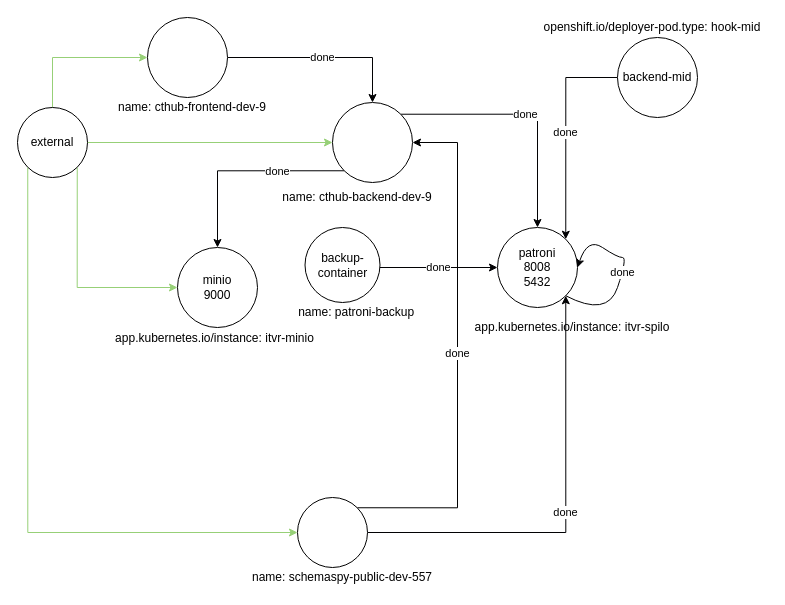
Some shapes in this 785 by 605 pixel diagram are drawn without their labels. Here are the shapes that lost their labels. From the top down, the box of each, then its label:
(146, 16, 228, 98): frontend 3000 5002
(332, 102, 412, 182): backend 8080
(296, 496, 368, 568): schemaspy 8080
